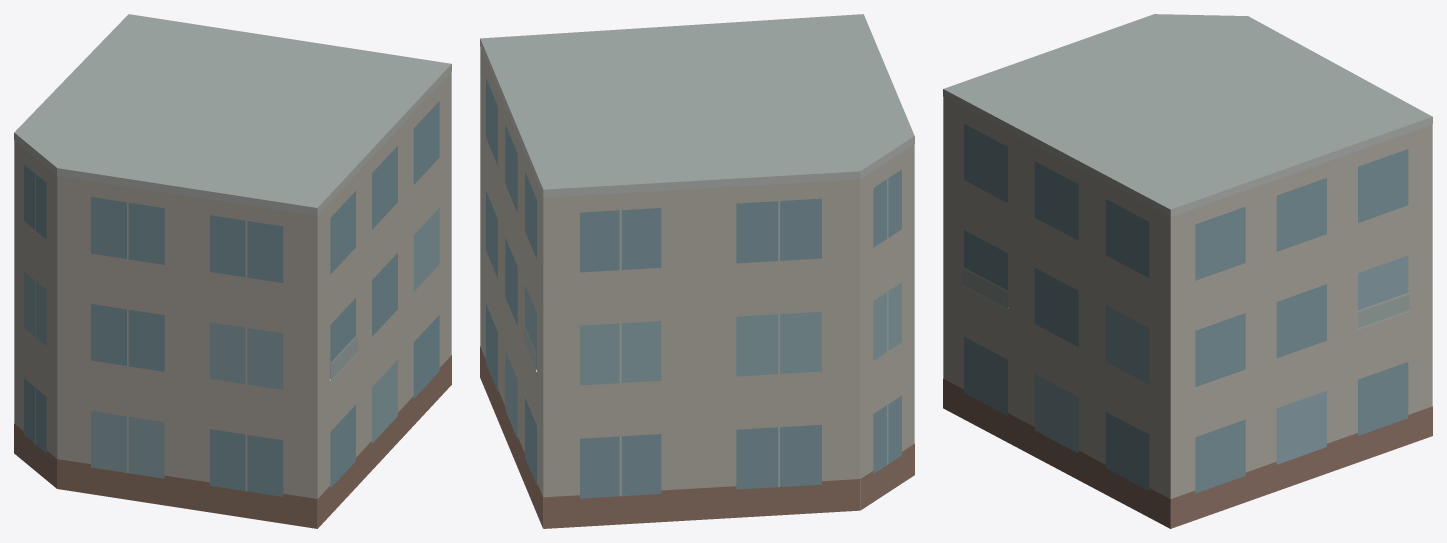
File: survey-upis-32836635.glb
3 views of the same model, side by side, from view 1: azimuth 30°, elevation 25°; view 2: azimuth 150°, elevation 25°; view 3: azimuth 270°, elevation 25° (orthographic). The views are drawn at different scales.
Visible parts, largest first — view 1: survey-upis-32836635.tmp; view 2: survey-upis-32836635.tmp; view 3: survey-upis-32836635.tmp.
Part boxes in pixels (x1,y1,x2,y2): survey-upis-32836635.tmp: (14, 14, 451, 528); survey-upis-32836635.tmp: (480, 14, 914, 528); survey-upis-32836635.tmp: (943, 14, 1432, 528).
Size of the model in its own units: 13.41 by 10.2 by 14.18.
